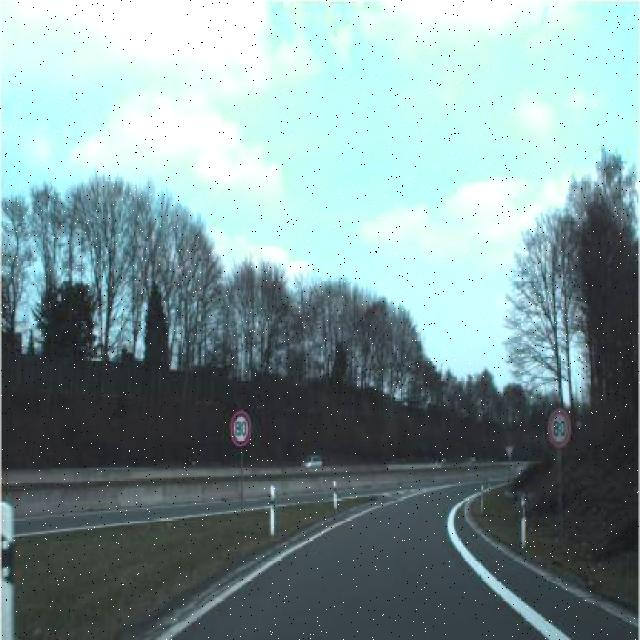Ograniczenie predkosci do 80: (547, 408, 571, 450), (229, 408, 251, 448)
